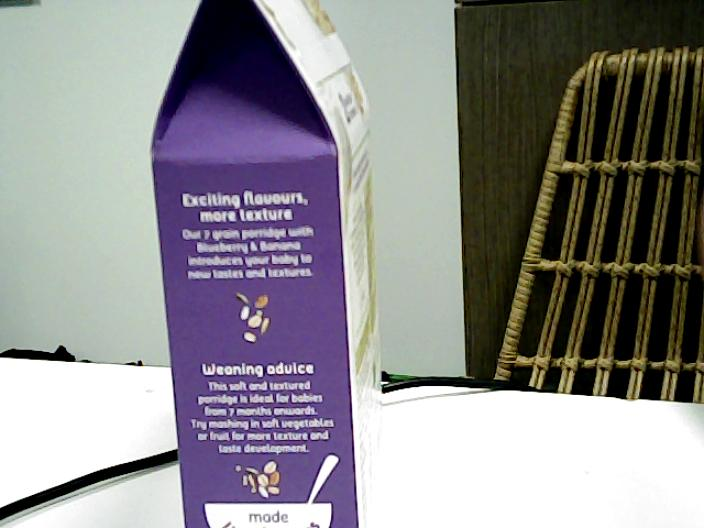Babyfood_100-199g_NonHalal_NonHealthy: (173, 1, 376, 528)
